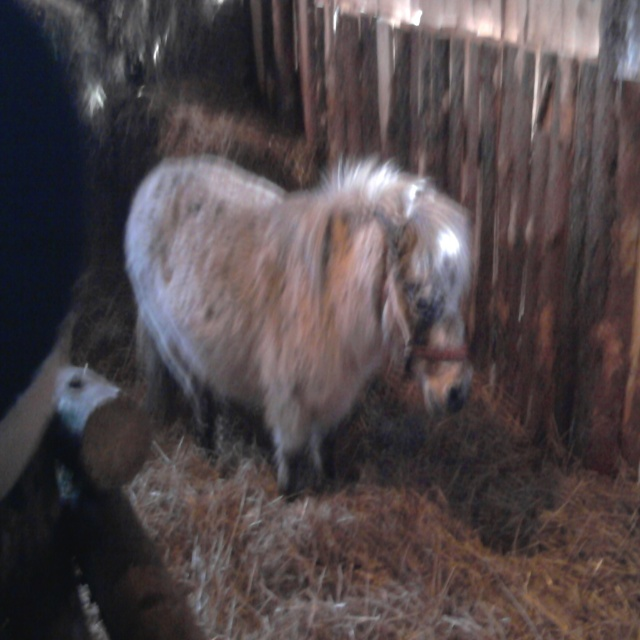Horse: (126, 149, 477, 502)
